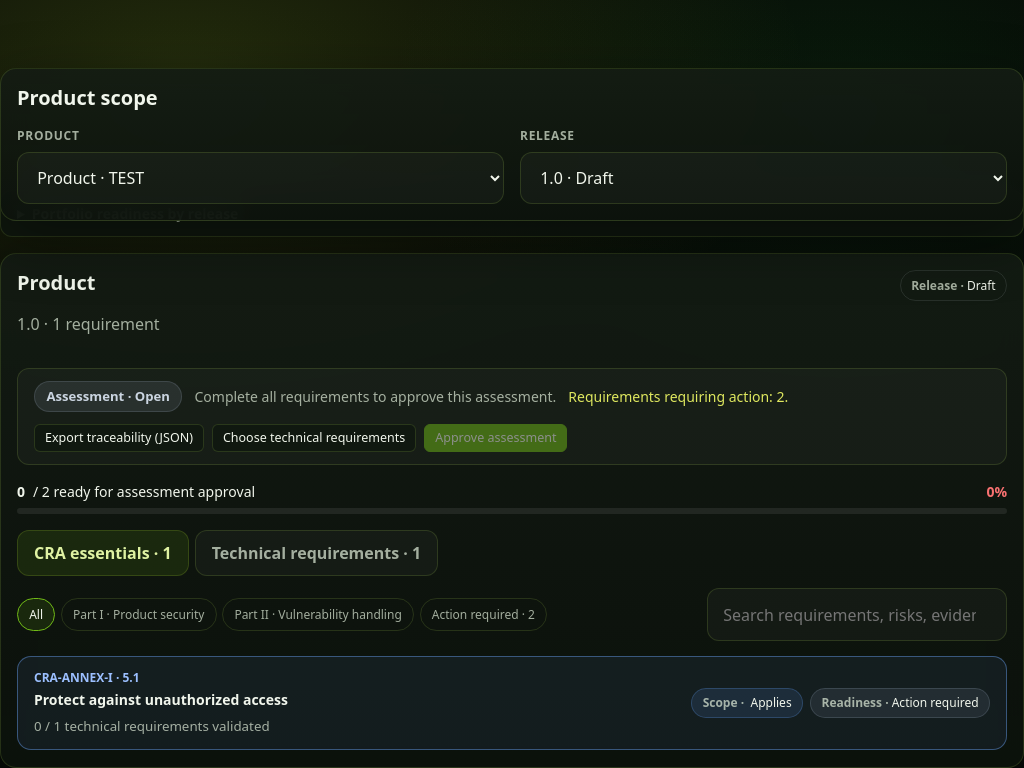
Test: Release requirement traceability › records failure with a conclusion rather than declaring fulfillment
(page scrolled)
Click the button that starts with "CRA-ANNEX-I · 5.1" at point(87, 677), box [17,656,1007,750]
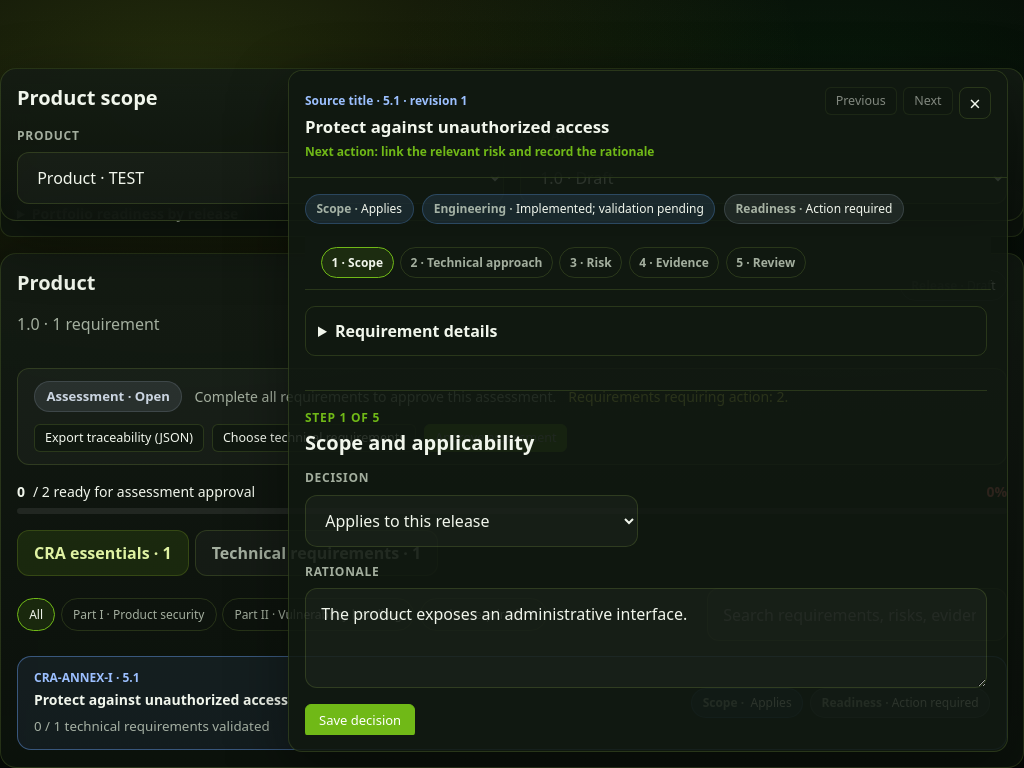
Result: the button "5 · Review" is shown
Click the button "5 · Review" at point(766, 263), box [726,247,806,278]
(page scrolled)
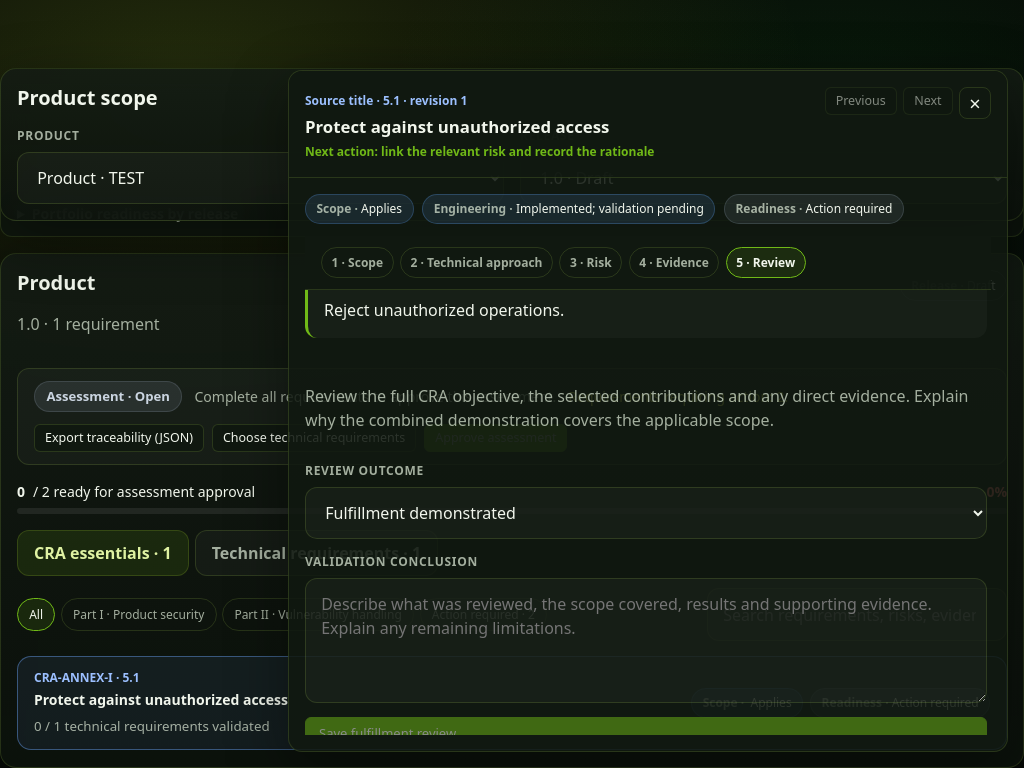
Select "Fail · changes needed" in the dropdown labelled "Review outcome" at point(646, 513), box [305,487,987,539]
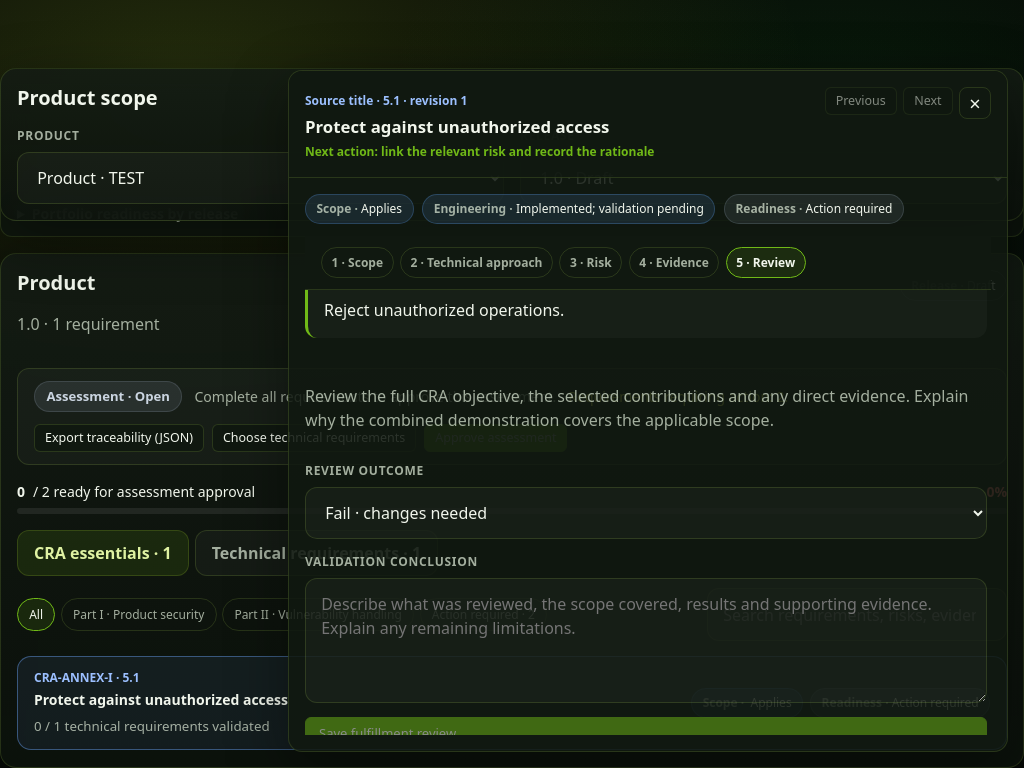
Replace the text in the text box labelled "Validation conclusion" with "The privileged endpoint accepted an unauthorized request." at point(646, 640), box [305,578,987,702]
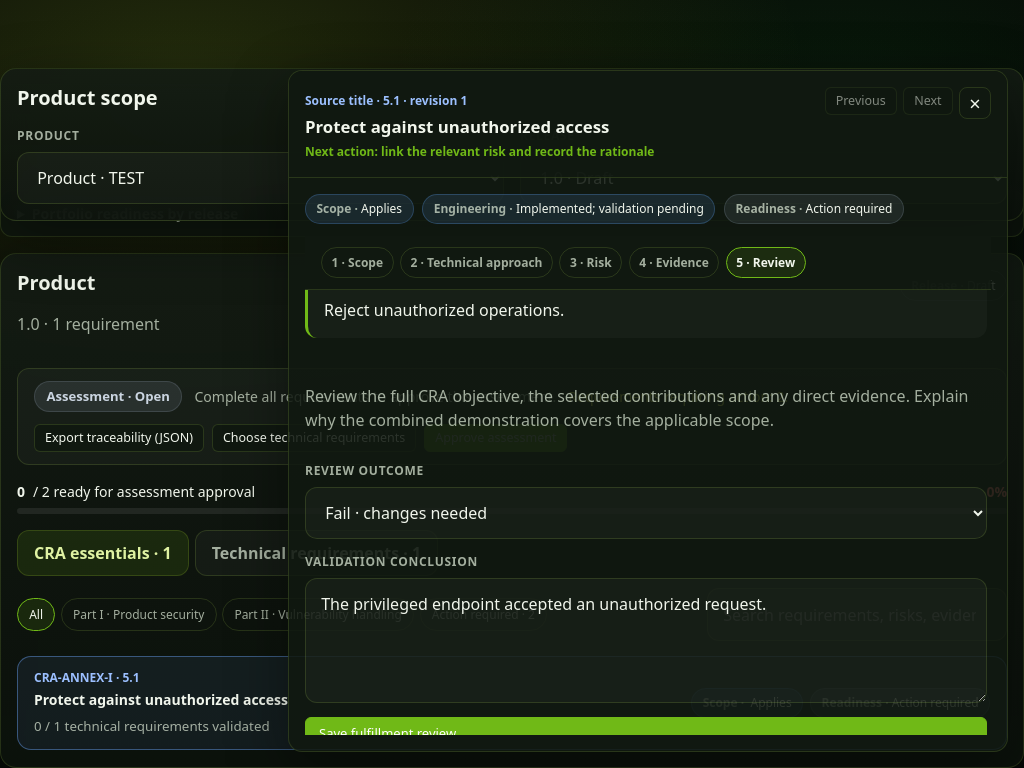
Click the button "Save fulfillment review" at point(388, 733), box [305,716,987,750]
(page scrolled)
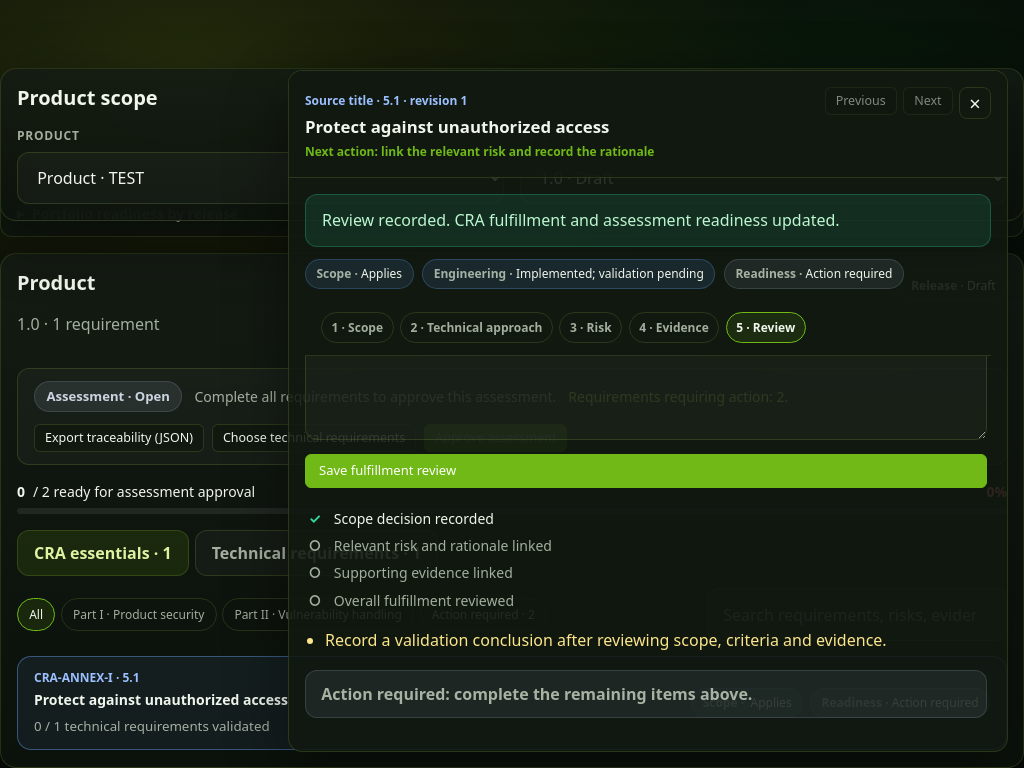
Result: the text with class "finalize-banner" shows "Action required" at [321,683,752,705]
